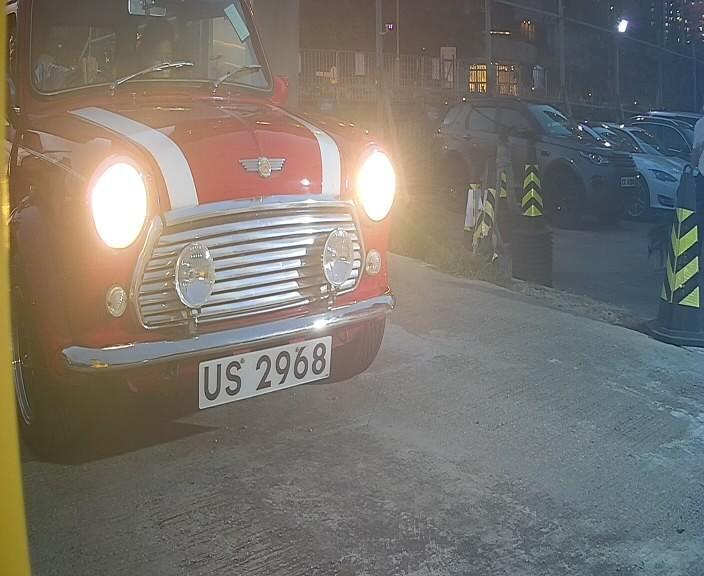privatecar: (13, 13, 437, 461)
